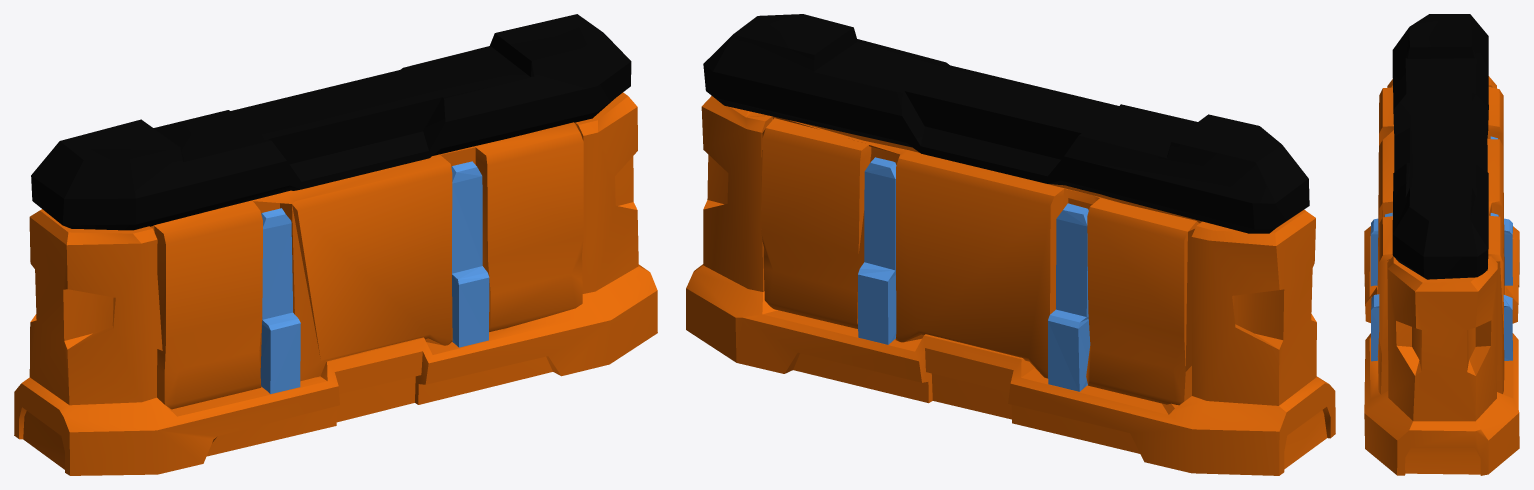
The model's file is handcover.fbx.
3 views of the same model, side by side, from view 1: azimuth 30°, elevation 25°; view 2: azimuth 150°, elevation 25°; view 3: azimuth 270°, elevation 25° (orthographic). The views are drawn at different scales.
Visible parts, largest first — view 1: mesh_node, mesh_node.004, mesh_node.002, mesh_node.001; view 2: mesh_node, mesh_node.004, mesh_node.002, mesh_node.001; view 3: mesh_node, mesh_node.004, mesh_node.001, mesh_node.002.
Part boxes in pixels (left/top/right/bottom): mesh_node: left=14, top=92, right=657, bottom=475; mesh_node.004: left=31, top=14, right=631, bottom=230; mesh_node.002: left=260, top=208, right=300, bottom=393; mesh_node.001: left=451, top=161, right=489, bottom=347; mesh_node: left=686, top=96, right=1335, bottom=475; mesh_node.004: left=703, top=14, right=1309, bottom=233; mesh_node.002: left=1048, top=203, right=1090, bottom=391; mesh_node.001: left=858, top=157, right=896, bottom=344; mesh_node: left=1364, top=76, right=1519, bottom=475; mesh_node.004: left=1392, top=14, right=1488, bottom=279; mesh_node.001: left=1371, top=212, right=1512, bottom=361; mesh_node.002: left=1370, top=136, right=1512, bottom=286.
Bounding box in the file's own units: 100 × 48.24 × 27.97.
